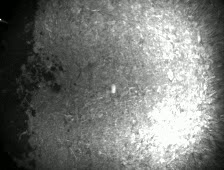corn: (108, 81, 119, 95)
